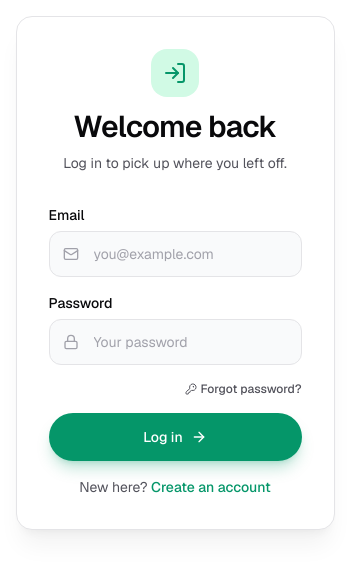
Test: LoginForm › shows an inline email error on blur without submitting
Click the field labelled "Email".
click(175, 254)  # box [48,231,302,277]
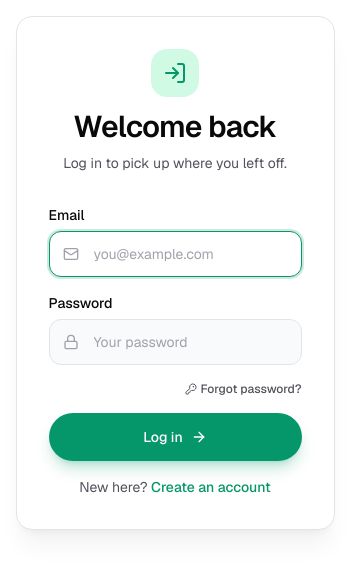
Press Tab
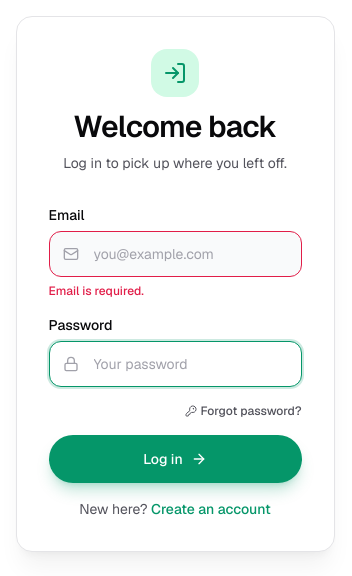
Expected: the text "Email is required." is shown, [48,283,144,299]
